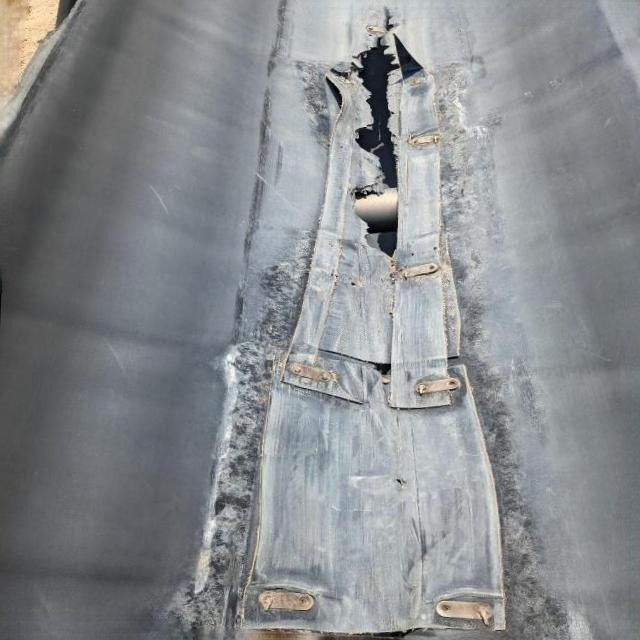Hole: (320, 8, 430, 260)
